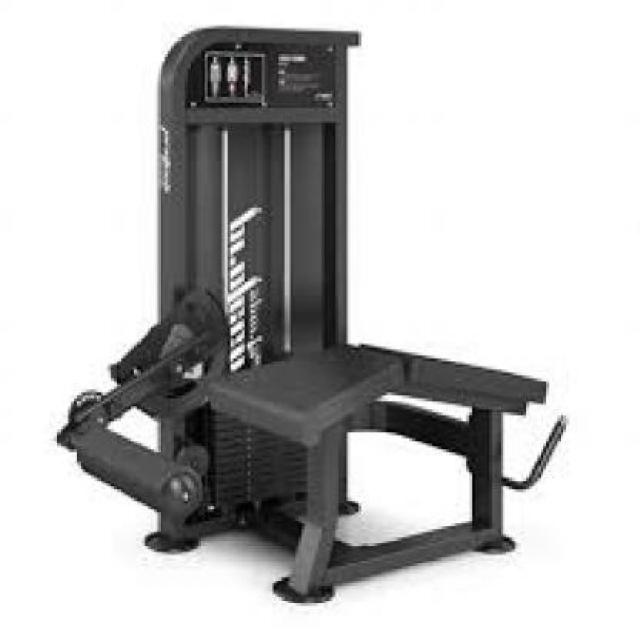reg curl machine: (56, 22, 576, 603)
